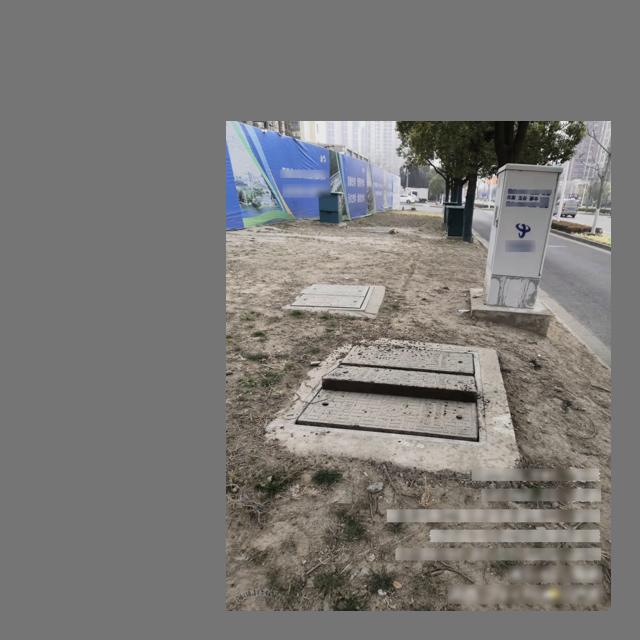good: (284, 281, 376, 311)
uncovered: (289, 343, 485, 448)
